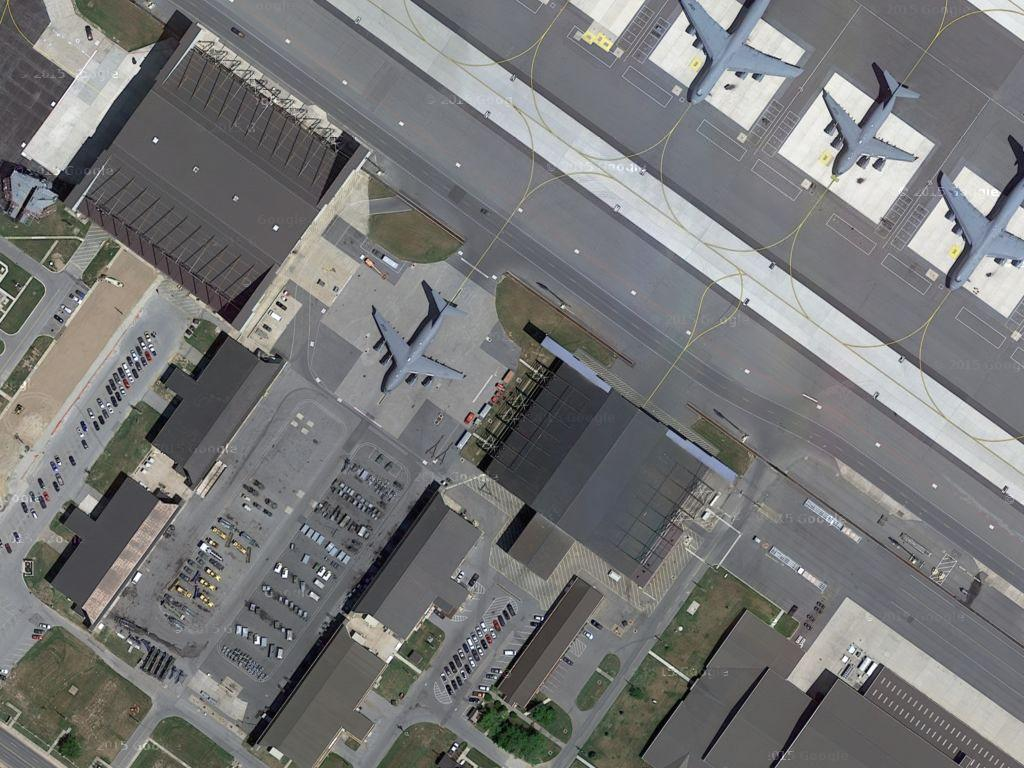C-17: (818, 62, 924, 182), (365, 287, 470, 395)
KC-135: (932, 137, 1024, 300), (670, 1, 799, 105)
